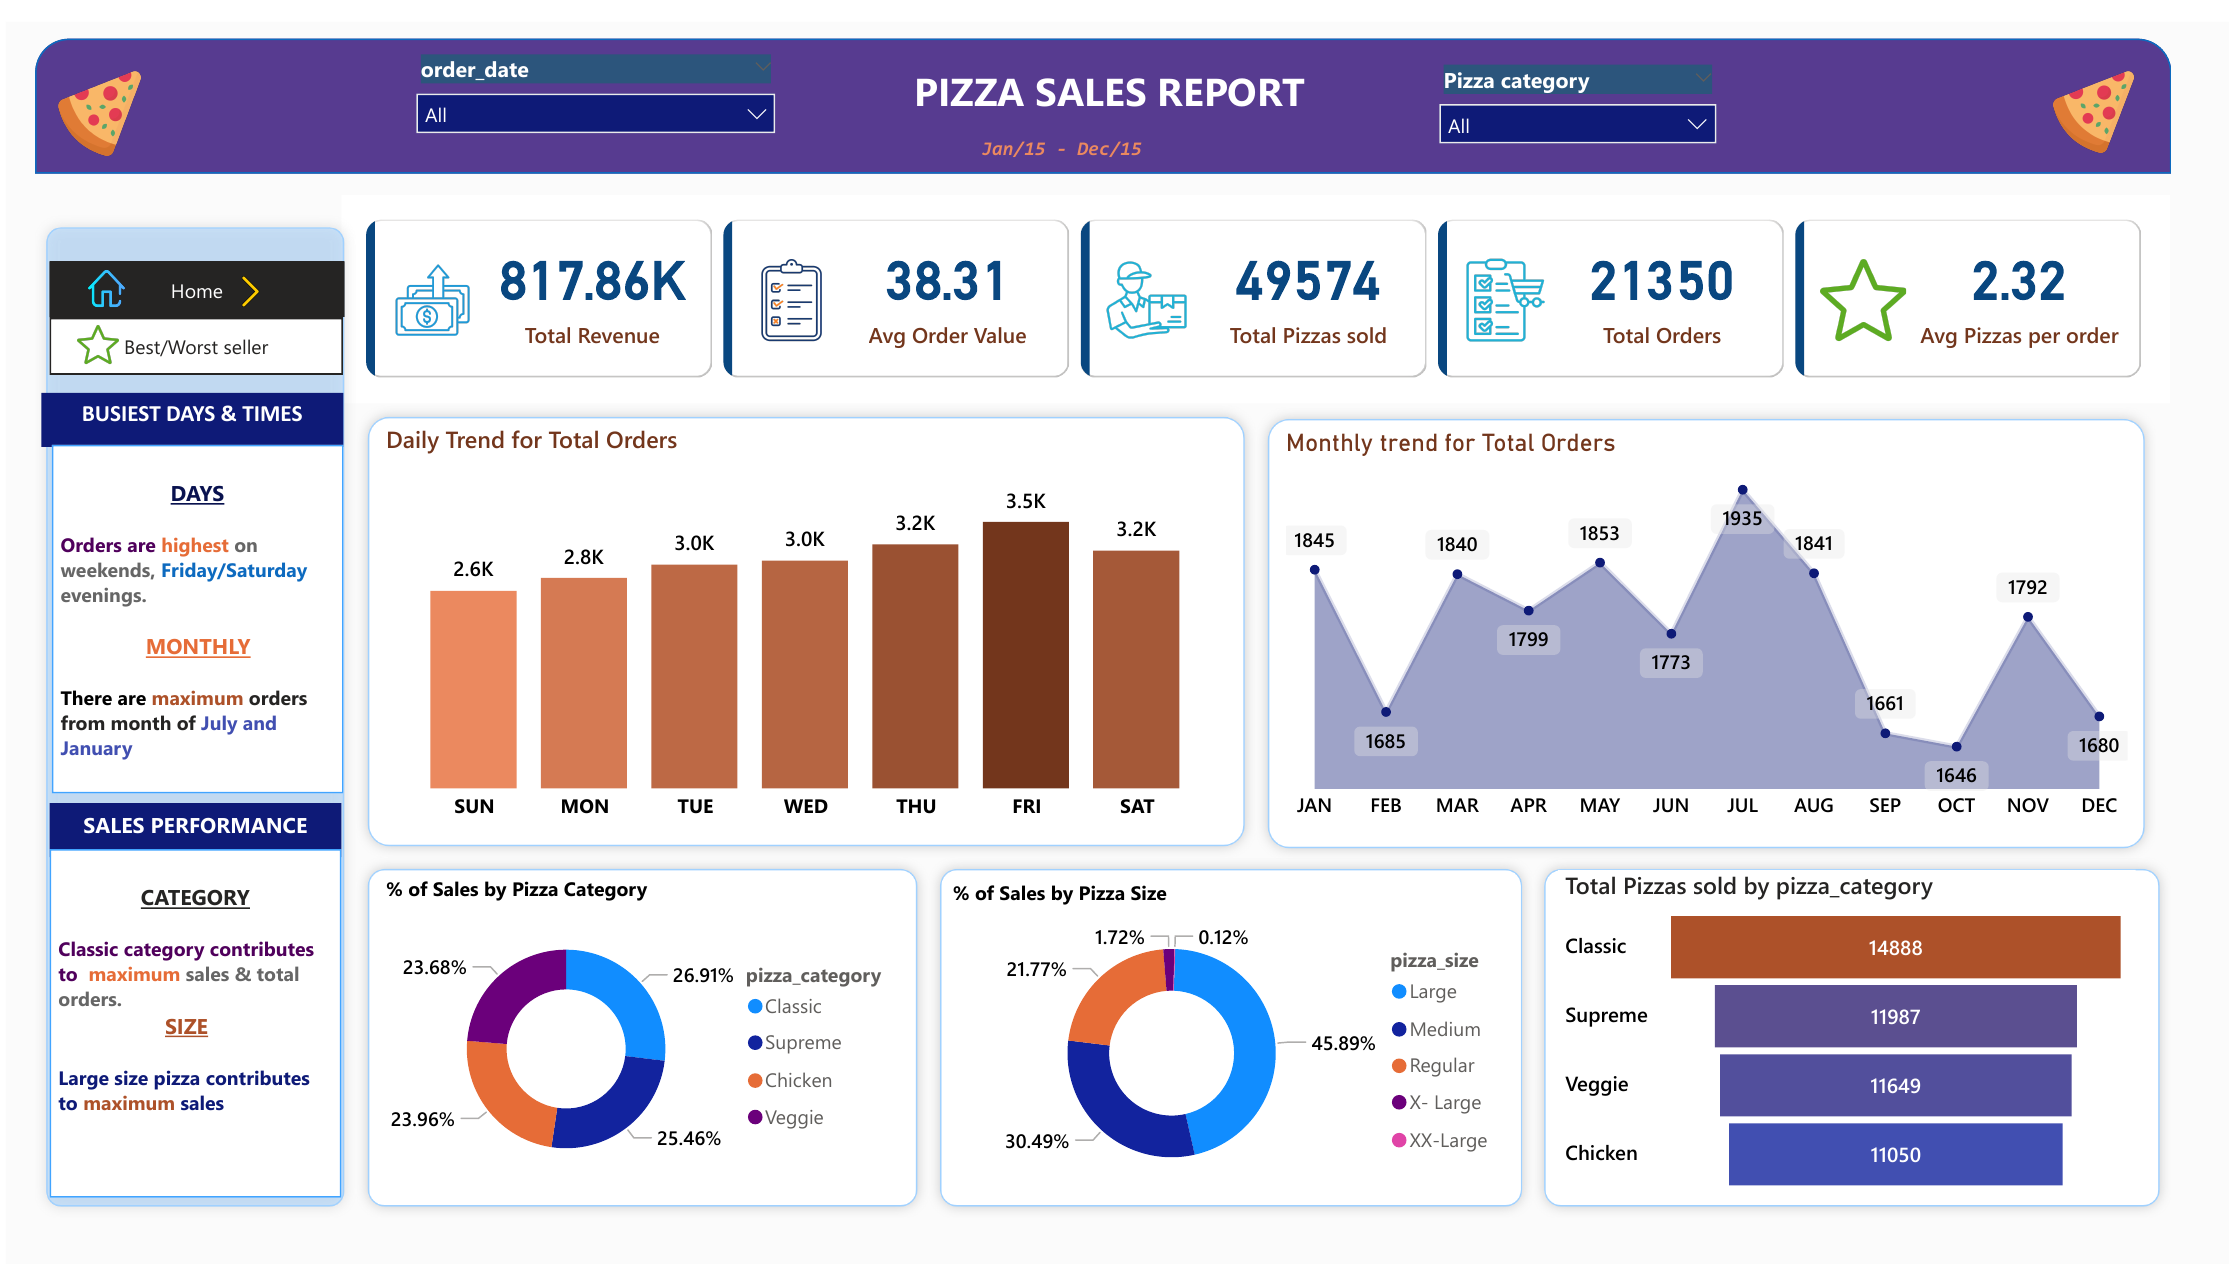

What the dashboard file says about the page in this screenshot:
{"tool":"powerbi","page":{"name":"Home","canvas":[1500,820],"ordinal":0},"visuals":[{"type":"cardVisual","fields":{"Data":["pizza_sales.Total Revenue","pizza_sales.Avg Order Value","pizza_sales.Total Pizzas sold","pizza_sales.Total Orders","pizza_sales.Avg Pizzas per order"]},"box":[230,118.6,1254.3,142.9],"z":0},{"type":"shape","box":[20.4,11.1,1464.8,92.6],"z":1000},{"type":"textbox","box":[592.6,24.1,327.8,64.8],"z":2000},{"type":"textbox","box":[644.4,72.2,159.3,31.5],"z":3000},{"type":"image","box":[1388.4,32.6,86.4,58.1],"z":4000},{"type":"shape","box":[240,262.9,617.1,310],"z":5000},{"type":"columnChart","title":"Daily Trend for Total Orders","fields":{"Category":["pizza_sales.Order Day"],"Y":["pizza_sales.Total Orders"]},"box":[255.7,275.7,585.7,281.4],"z":6000},{"type":"shape","box":[857.1,264.3,617.1,310],"z":7000},{"type":"areaChart","title":"Monthly trend for Total Orders","fields":{"Category":["pizza_sales.Order Month"],"Y":["pizza_sales.Total Orders"]},"box":[872.9,278.6,587.1,278.6],"z":8000},{"type":"shape","box":[632.9,572.9,414.3,247.1],"z":9000},{"type":"shape","box":[240,572.9,392.9,247.1],"z":10000},{"type":"shape","box":[1047.1,572.9,437.1,247.1],"z":11000},{"type":"donutChart","title":"% of Sales by Pizza Category","fields":{"Category":["pizza_sales.pizza_category"],"Y":["pizza_sales.Total Revenue"]},"box":[255.7,585.7,365.7,218.6],"z":12000},{"type":"donutChart","title":"% of Sales by Pizza Size","fields":{"Y":["pizza_sales.Total Revenue"],"Category":["pizza_sales.pizza_size"]},"box":[644.3,588.6,390,218.6],"z":13000},{"type":"funnel","fields":{"Category":["pizza_sales.pizza_category"],"Y":["pizza_sales.Total Pizzas sold"]},"box":[1064.3,581.4,395.7,225.7],"z":14000},{"type":"shape","box":[19.8,133.2,219.6,687.1],"z":15000},{"type":"textbox","box":[24.1,253.6,206.8,36.8],"z":16000},{"type":"textbox","box":[31.2,290.4,199.8,239.4],"z":17000},{"type":"textbox","box":[29.8,535.5,199.8,36.8],"z":18000},{"type":"textbox","box":[29.8,566.7,199.8,239.4],"z":19000},{"type":"slicer","fields":{"Values":["pizza_sales.pizza_category"]},"box":[973.3,24.1,209.7,63.8],"z":20000},{"type":"slicer","fields":{"Values":["pizza_sales.order_date"]},"box":[272,17,266.3,63.8],"z":21000},{"type":"pageNavigator","box":[29.8,164.3,202.6,38.3],"z":22000},{"type":"pageNavigator","box":[29.8,202.6,201.2,39.7],"z":23000},{"type":"image","box":[134.6,174.3,66.6,21.3],"z":24000},{"type":"image","box":[24.1,170,89.3,25.5],"z":25000},{"type":"image","box":[26.9,206.8,72.3,28.3],"z":26000},{"type":"image","box":[8.5,32.6,110.5,59.5],"z":27000}]}

Visuals, with their boxes on the page's 1500x820 design canvas (x1, y1, x2, y2). These are canvas units, not pixel positions in the 2229x1264 screenshot, which may show the page scaled, cropped or inside an application window:
cardVisual - pizza_sales.Total Revenue x pizza_sales.Avg Order Value: bbox(230, 119, 1484, 262)
shape: bbox(20, 11, 1485, 104)
textbox: bbox(593, 24, 920, 89)
textbox: bbox(644, 72, 804, 104)
image: bbox(1388, 33, 1475, 91)
shape: bbox(240, 263, 857, 573)
"Daily Trend for Total Orders" columnChart: bbox(256, 276, 841, 557)
shape: bbox(857, 264, 1474, 574)
"Monthly trend for Total Orders" areaChart: bbox(873, 279, 1460, 557)
shape: bbox(633, 573, 1047, 820)
shape: bbox(240, 573, 633, 820)
shape: bbox(1047, 573, 1484, 820)
"% of Sales by Pizza Category" donutChart: bbox(256, 586, 621, 804)
"% of Sales by Pizza Size" donutChart: bbox(644, 589, 1034, 807)
funnel - pizza_sales.pizza_category x pizza_sales.Total Pizzas sold: bbox(1064, 581, 1460, 807)
shape: bbox(20, 133, 239, 820)
textbox: bbox(24, 254, 231, 290)
textbox: bbox(31, 290, 231, 530)
textbox: bbox(30, 536, 230, 572)
textbox: bbox(30, 567, 230, 806)
slicer - pizza_sales.pizza_category: bbox(973, 24, 1183, 88)
slicer - pizza_sales.order_date: bbox(272, 17, 538, 81)
pageNavigator: bbox(30, 164, 232, 203)
pageNavigator: bbox(30, 203, 231, 242)
image: bbox(135, 174, 201, 196)
image: bbox(24, 170, 113, 196)
image: bbox(27, 207, 99, 235)
image: bbox(8, 33, 119, 92)
